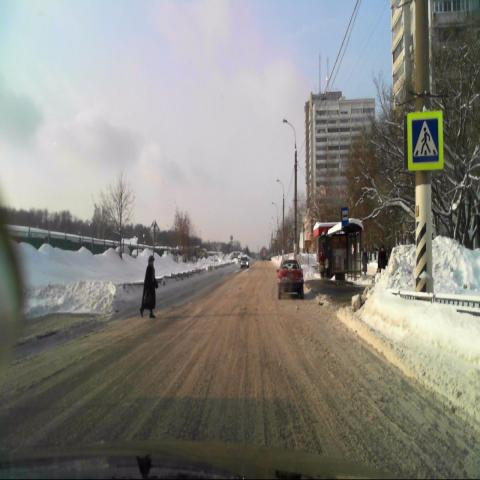5_16: (341, 207, 349, 227)
5_19_1: (408, 112, 443, 170)
